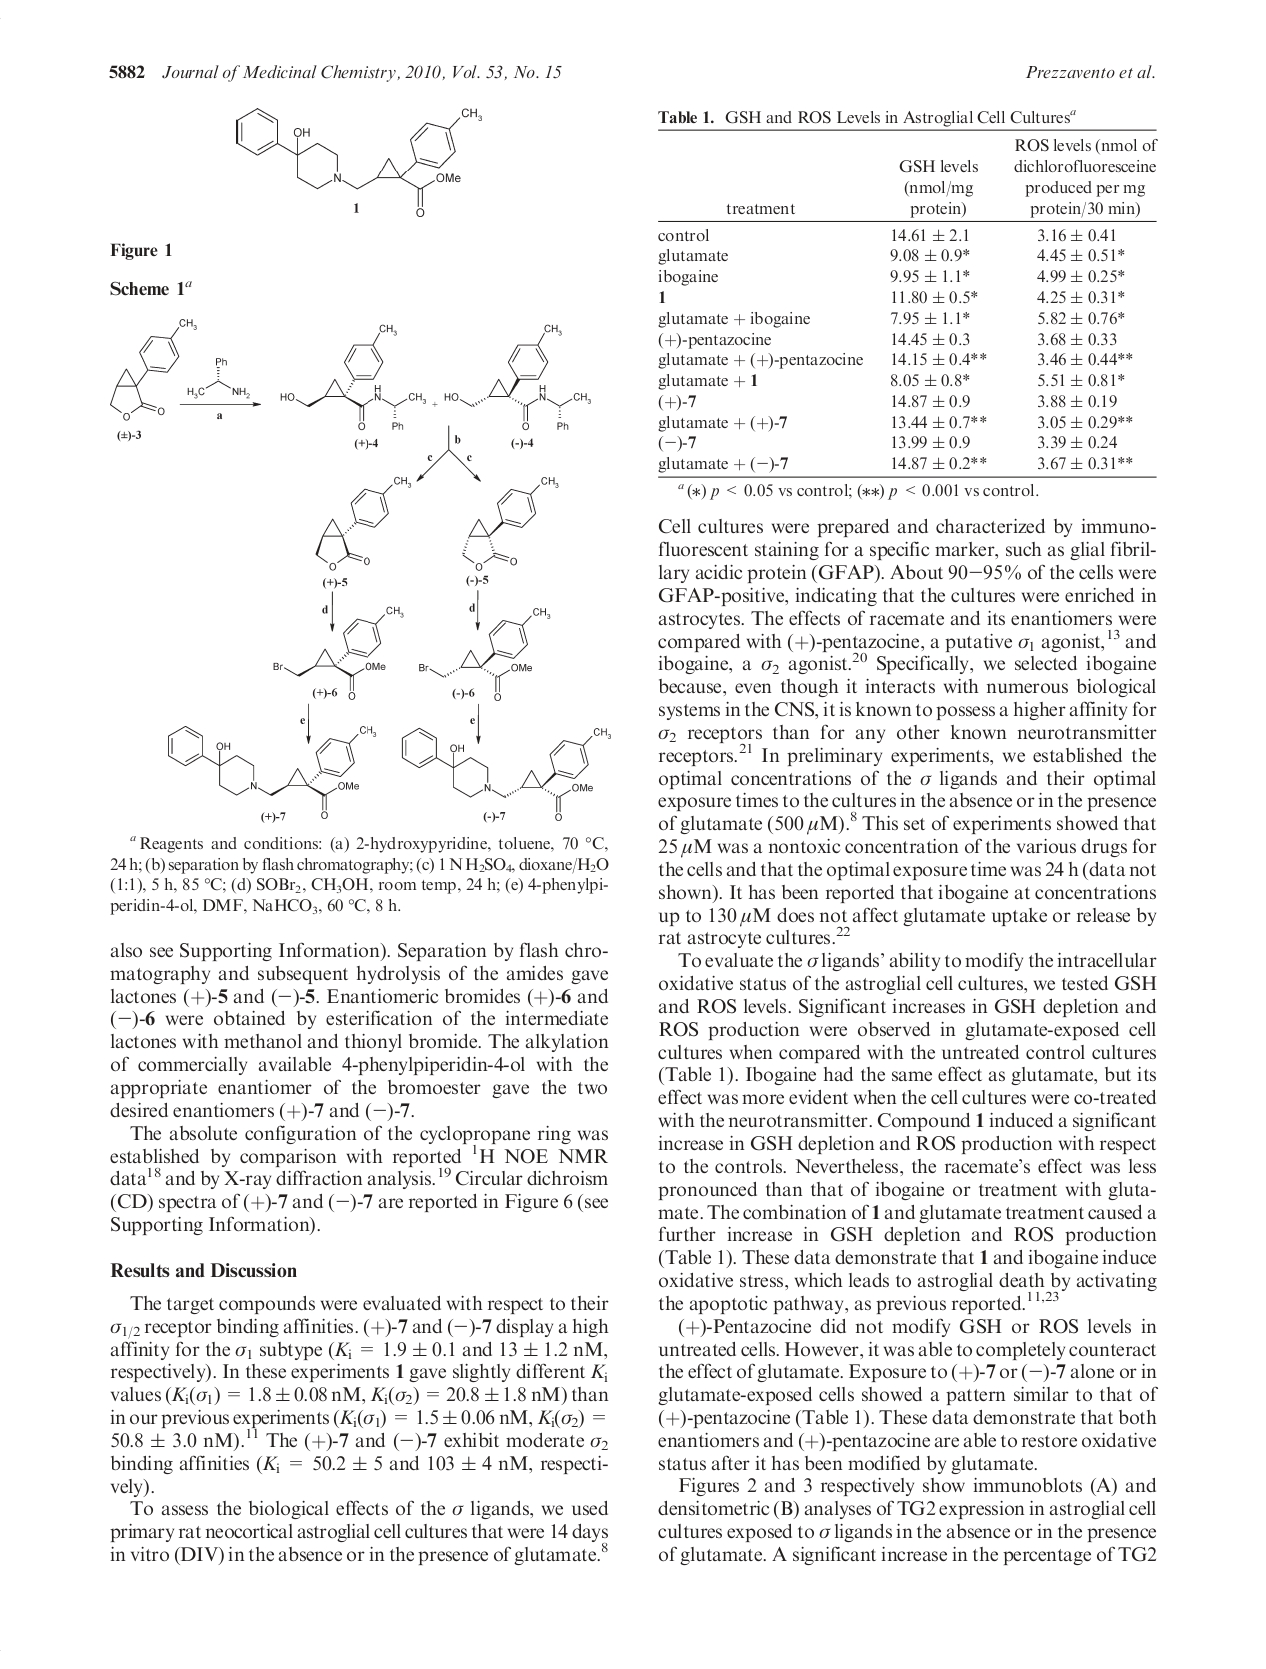exist_molecular: (227, 96, 492, 222), (396, 719, 620, 821), (166, 722, 378, 821), (442, 319, 597, 432), (278, 317, 427, 431), (414, 601, 567, 707), (269, 600, 408, 705), (461, 467, 563, 572), (106, 310, 199, 422), (313, 469, 414, 569), (185, 352, 254, 403)
